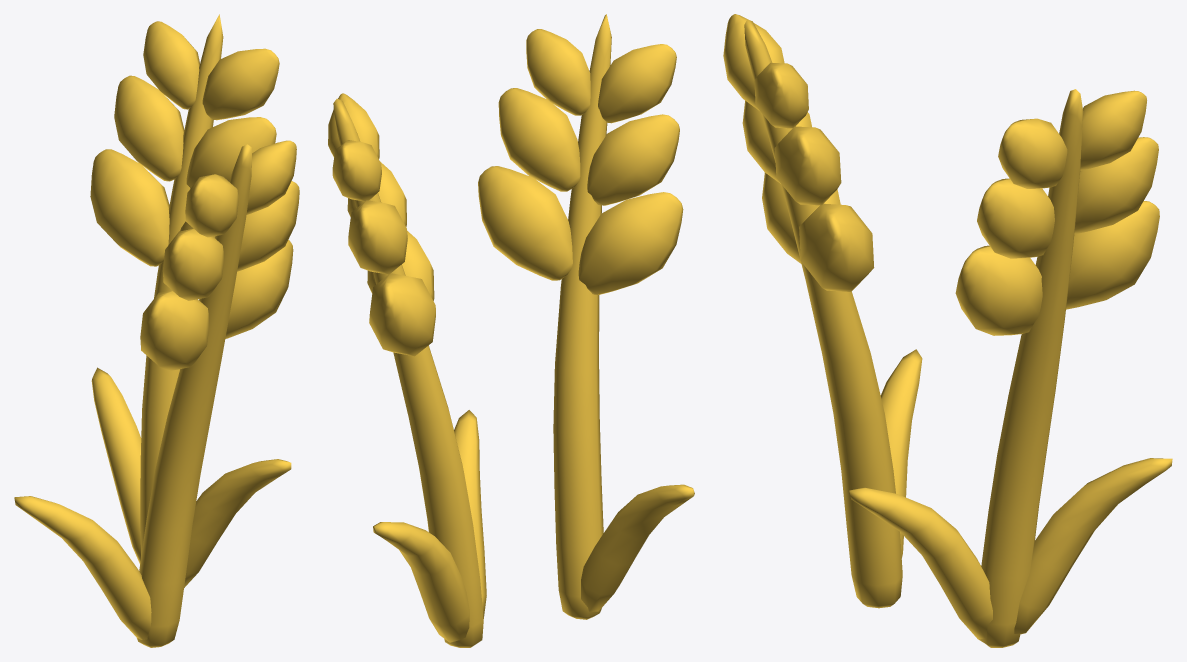
The model's file is wheat stage 3.glb.
3 renders of one model, left to right at view 1: azimuth 30°, elevation 25°; view 2: azimuth 150°, elevation 25°; view 3: azimuth 270°, elevation 25°, orthographic. The views are drawn at different scales.
Parts seen in each view (by area): view 1: WheatStage3; view 2: WheatStage3; view 3: WheatStage3.
Part boxes in pixels (x1,y1,x2,y2): WheatStage3: (14, 14, 299, 647); WheatStage3: (328, 14, 694, 647); WheatStage3: (723, 14, 1172, 647).
Size of the model in its own units: 0.4524 by 0.7617 by 0.5097.
1 material, 1 textured.
